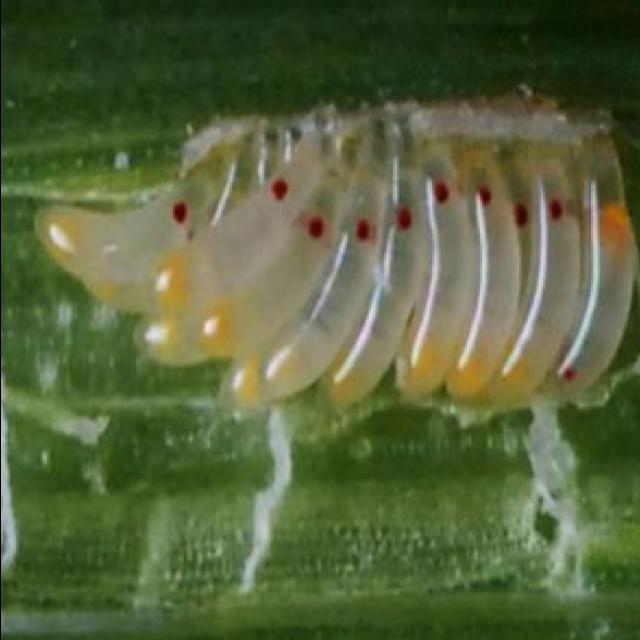brown plant hopper: (37, 141, 333, 364), (259, 128, 387, 398), (470, 161, 579, 396), (327, 159, 424, 401), (536, 185, 636, 398), (35, 187, 187, 311), (444, 157, 516, 396), (396, 179, 475, 392)
